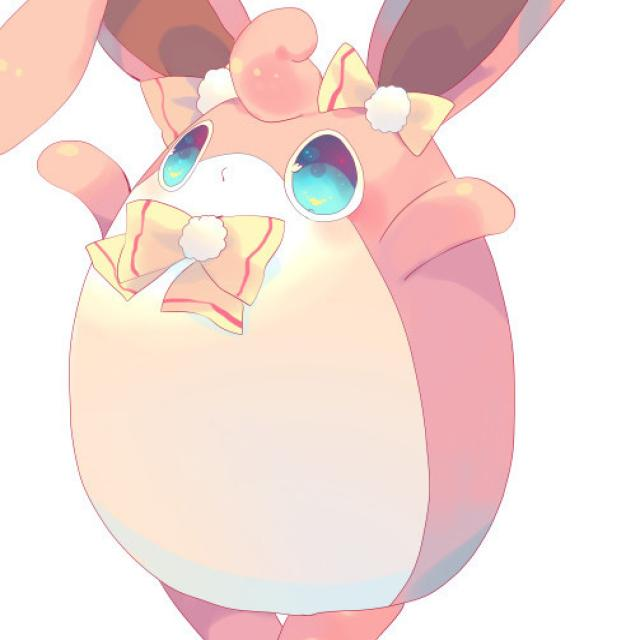Wigglytuff: (59, 30, 539, 584)
